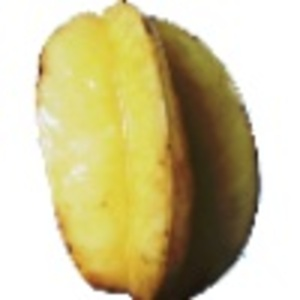carambola: (33, 1, 263, 300)
